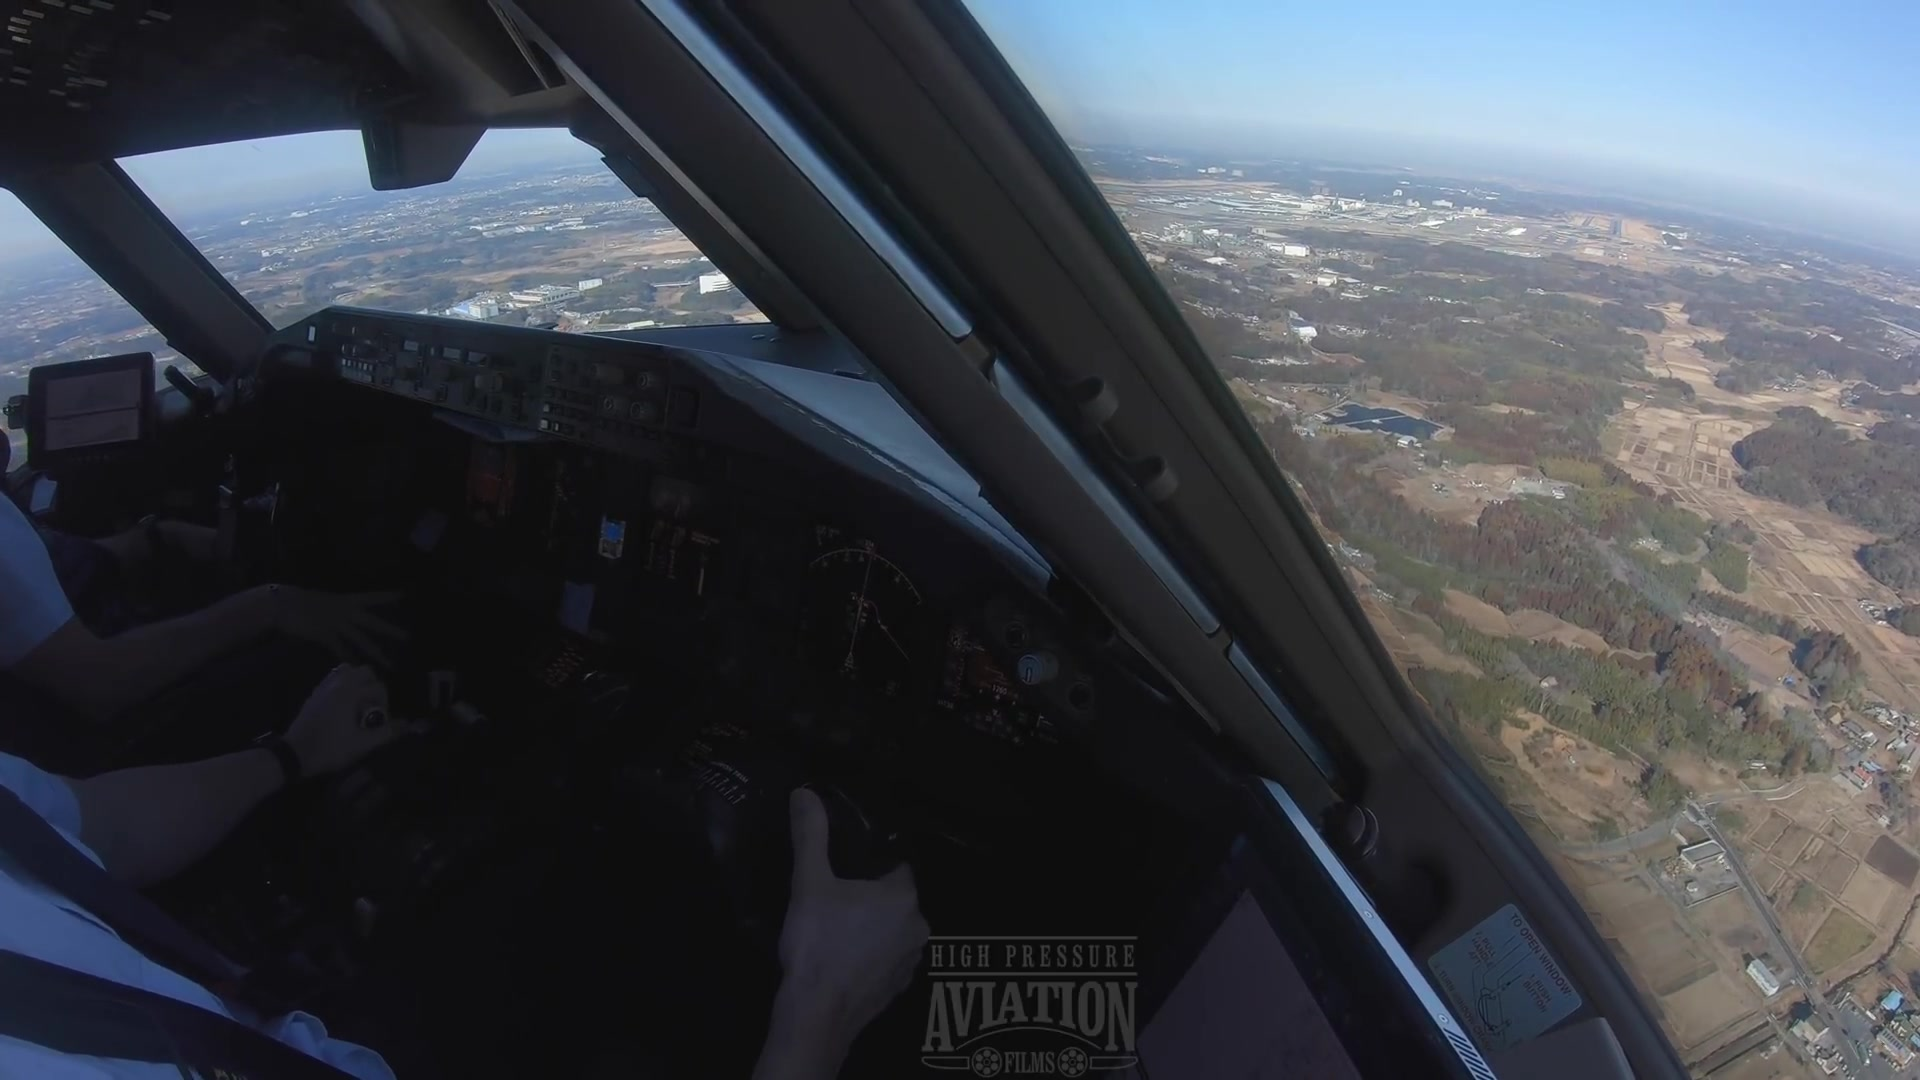runway: (1605, 216, 1626, 241)
